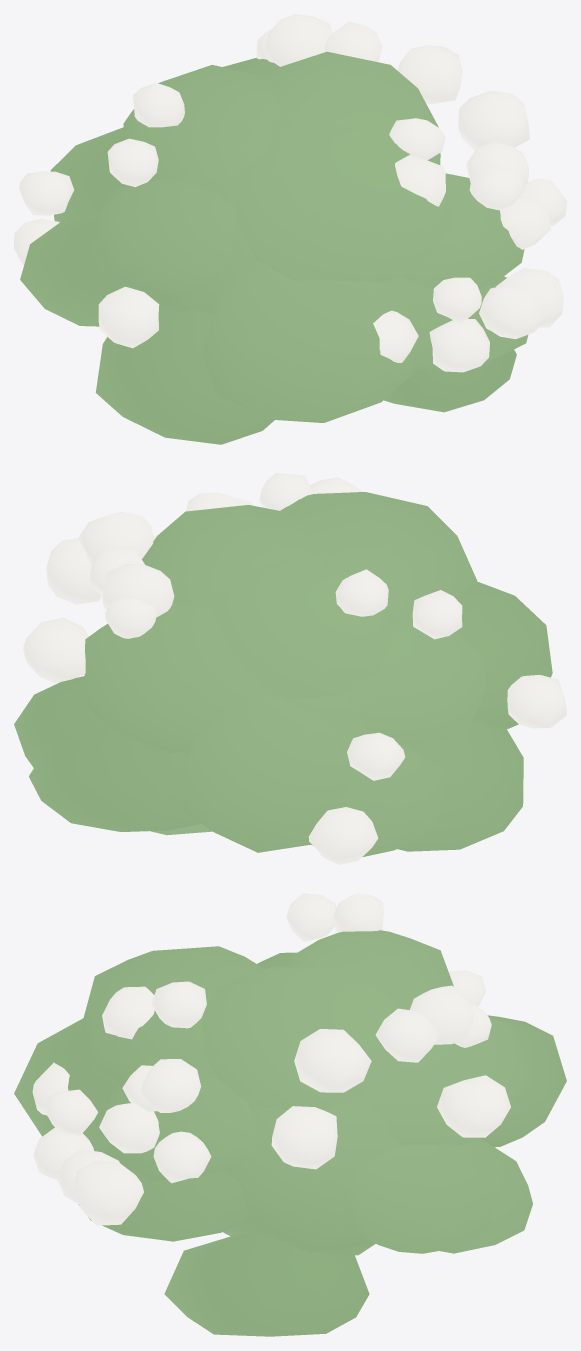
File: Blender_GardenShrub_Flowering.glb
The picture shows the model from 3 angles, top to bottom: view 1: azimuth 30°, elevation 25°; view 2: azimuth 150°, elevation 25°; view 3: azimuth 270°, elevation 25°; orthographic projection.
Visible parts, largest first — view 1: Blender_GardenShrub_Flowering; view 2: Blender_GardenShrub_Flowering; view 3: Blender_GardenShrub_Flowering.
Part boxes in pixels (bbox=[...]): Blender_GardenShrub_Flowering: bbox=[14, 14, 566, 444]; Blender_GardenShrub_Flowering: bbox=[14, 473, 566, 864]; Blender_GardenShrub_Flowering: bbox=[14, 893, 566, 1336].
Bounding box in the file's own units: 1.53 × 1.02 × 1.59.
